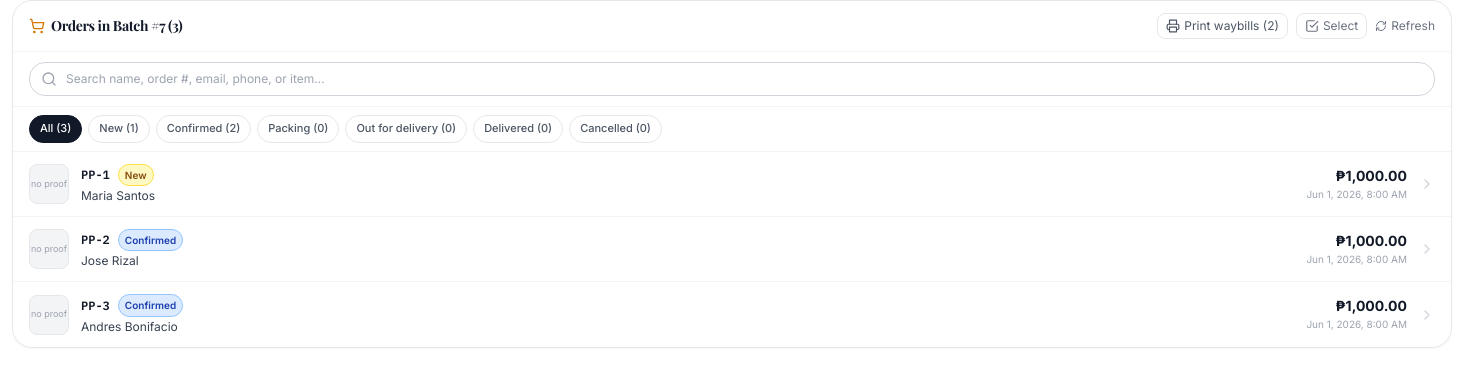
BatchOrdersPanel › filters orders by the search box
Check: the text "Maria Santos" is shown, box [81, 188, 155, 203]
Check: the text "Jose Rizal" is shown, box [81, 253, 139, 268]
Type "maria" into the search field.
click(732, 79); type("maria")  # box [29, 62, 1435, 96]
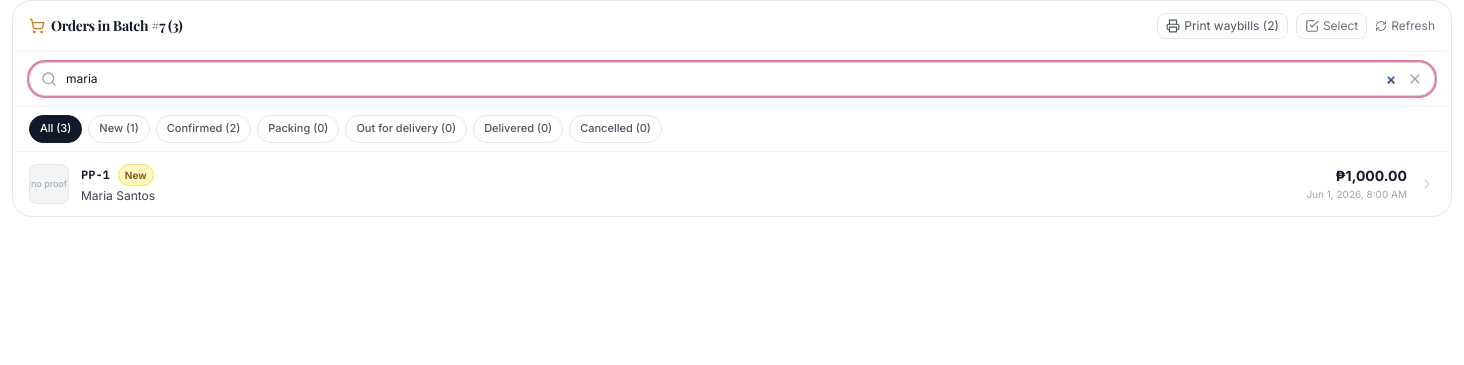
Check: the text "Maria Santos" is shown, box [81, 188, 155, 203]
Check: the button "Jose Rizal" is gone
